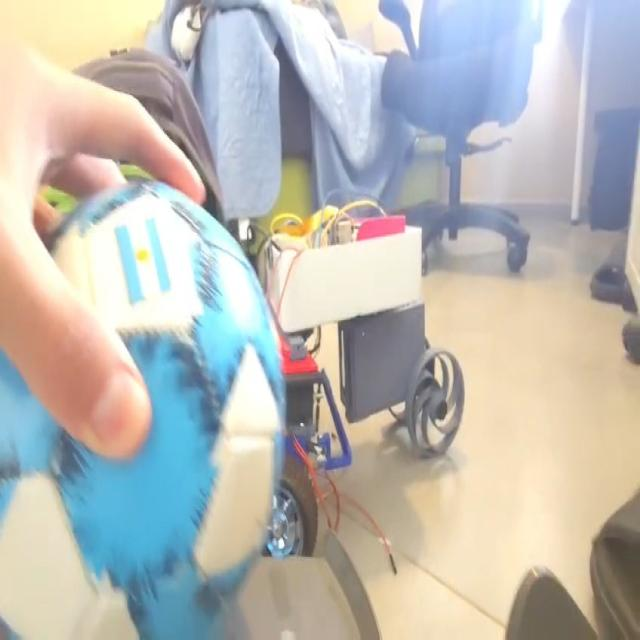Robot: (262, 200, 463, 558)
